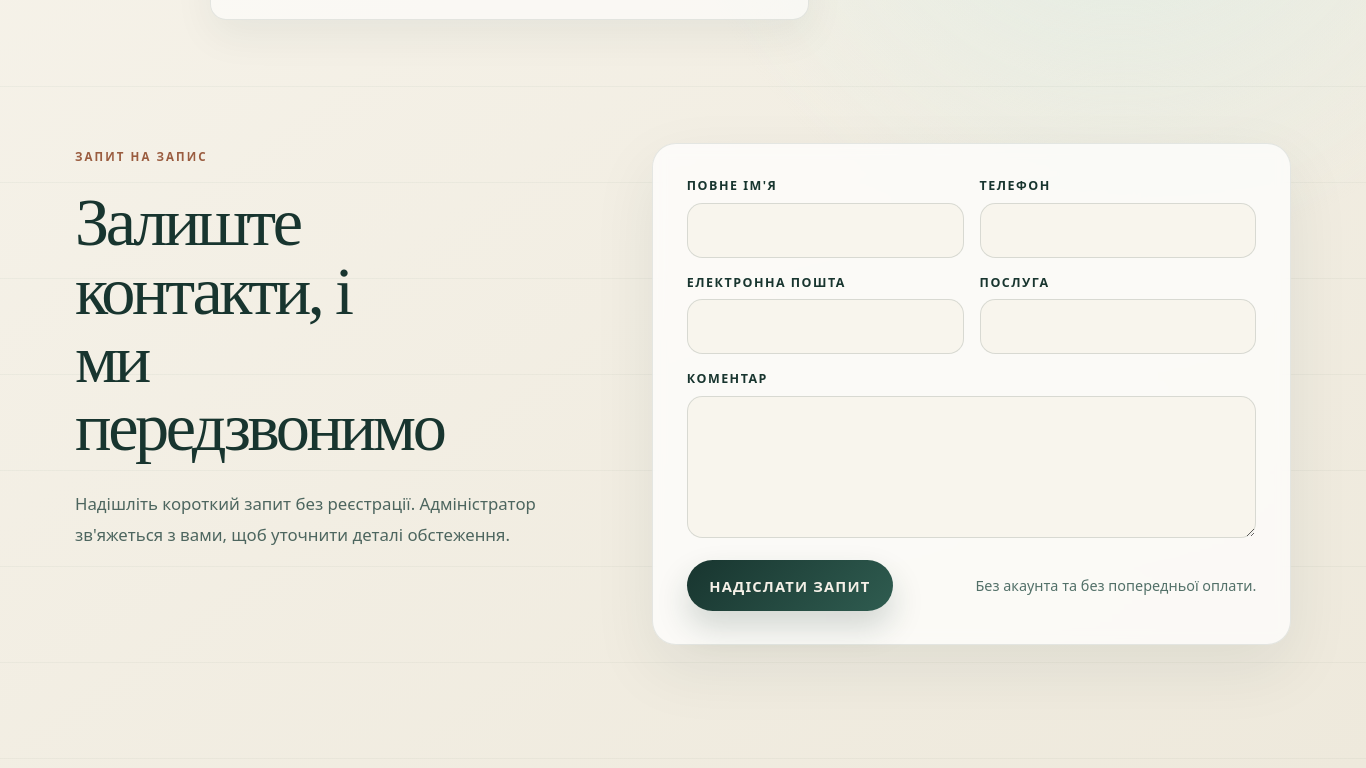
Scenario: public clinic information › validates required appointment form fields on the client
(page scrolled)
Step 1. Click the button "Надіслати запит" → (790, 586), box [687,560,893,611]
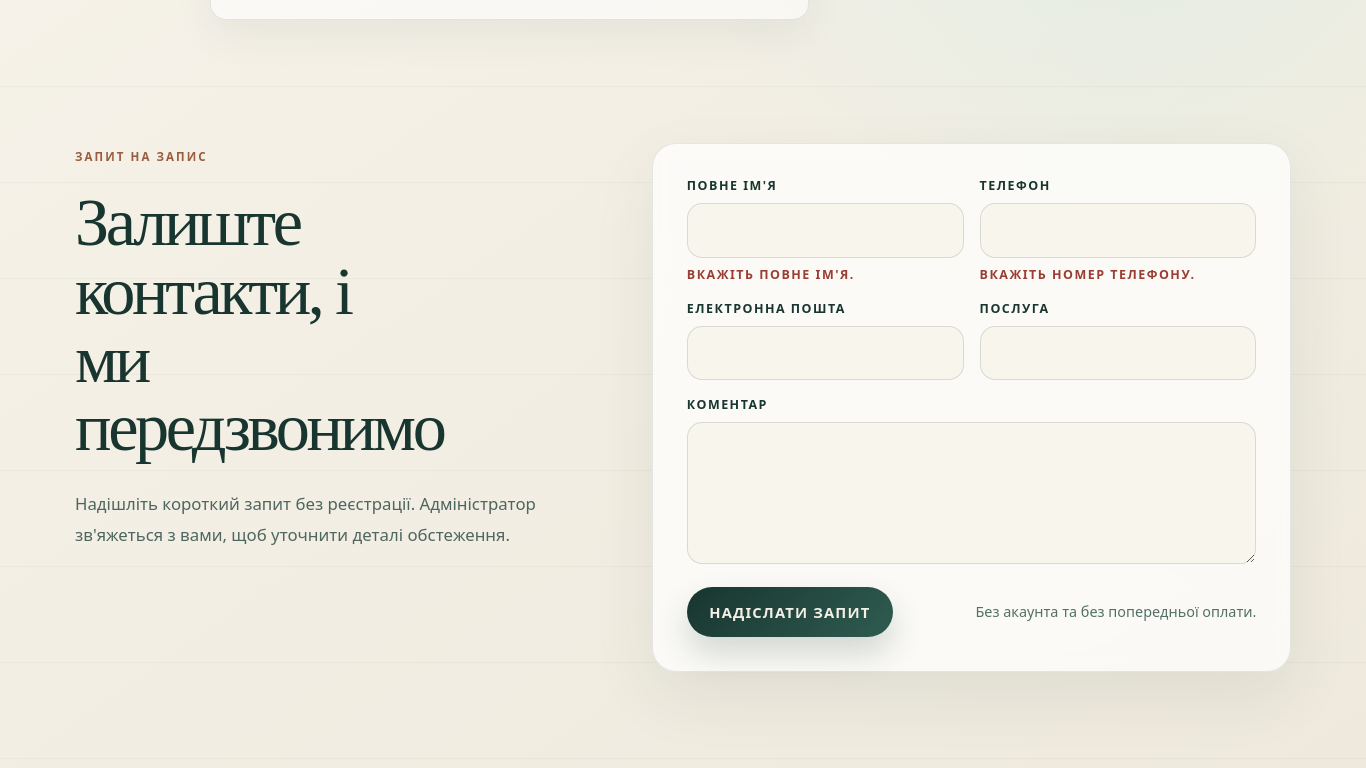
Result: the text "Вкажіть повне ім'я." is shown at [687,266,855,283]
Result: the text "Вкажіть номер телефону." is shown at [980,266,1195,283]
